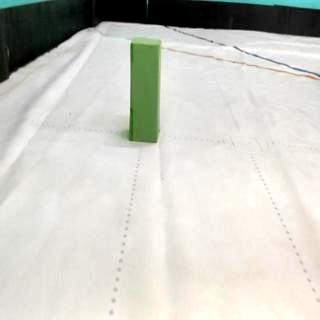greenbox: (126, 34, 164, 144)
